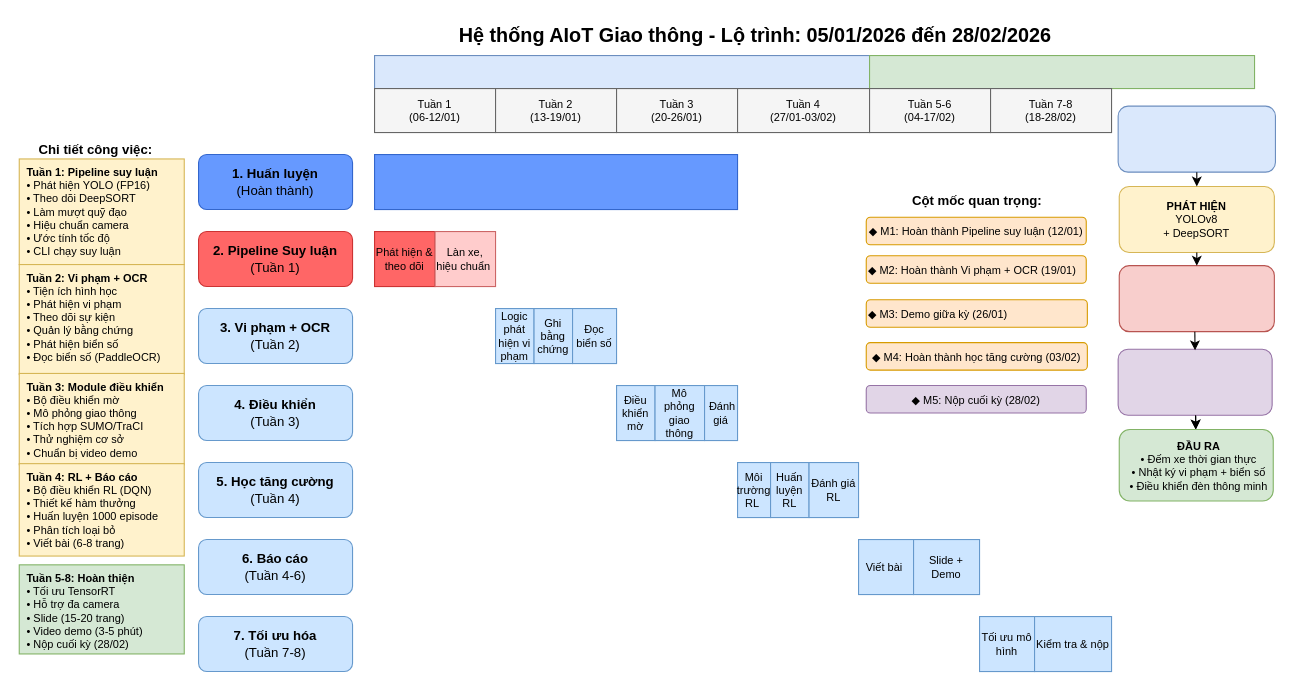
Image size: 1295x691. Some labels were removed from this diagram. The shapes that lost their labels are listed below. From the top down, each one's centre as x and y in pixels, then its label:
(621,71): Tháng 1/2026
(1061,71): Tháng 2/2026
(1196,138): ĐẦU VÀO Video từ camera (Camera cố định tại ngã tư)
(555,181): 1.1 Huấn luyện YOLO, chuẩn bị dữ liệu, xuất mô hình (XONG)
(1196,298): VI PHẠM Vượt đèn đỏ, lấn làn + OCR (PaddleOCR)
(1194,381): ĐIỀU KHIỂN Logic mờ + DQN (RL)
